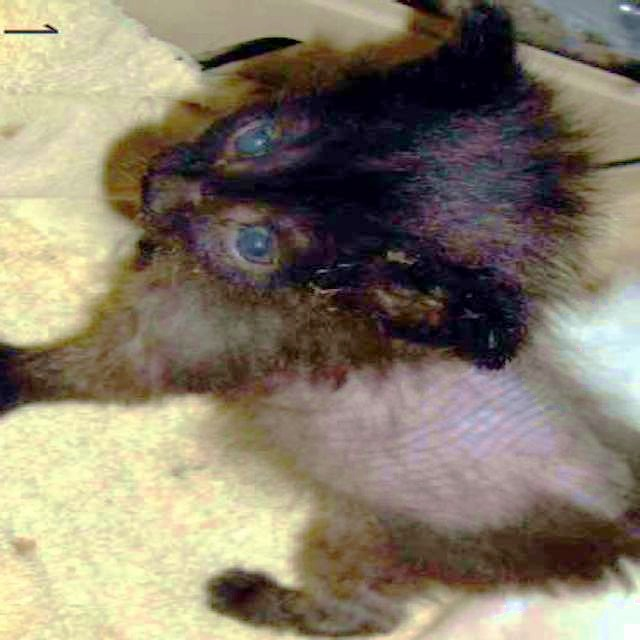hairloss: (283, 361, 584, 521)
